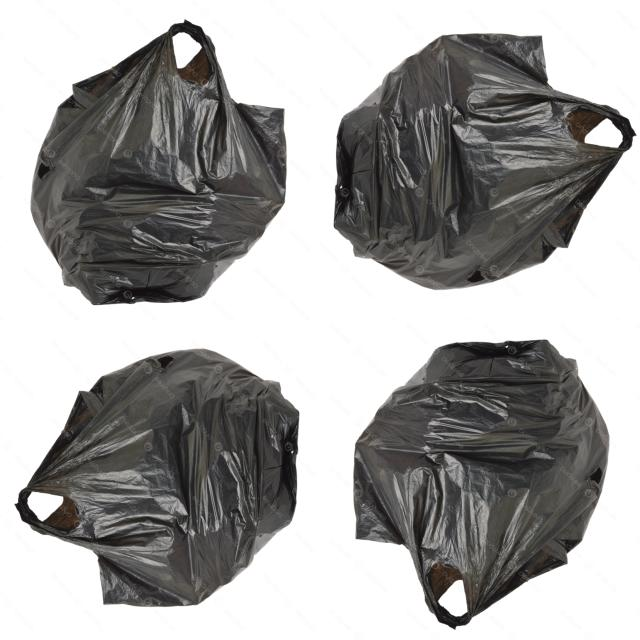Single-layer Plastic: (334, 34, 635, 289), (354, 340, 609, 628), (16, 350, 299, 606), (31, 21, 286, 305)
